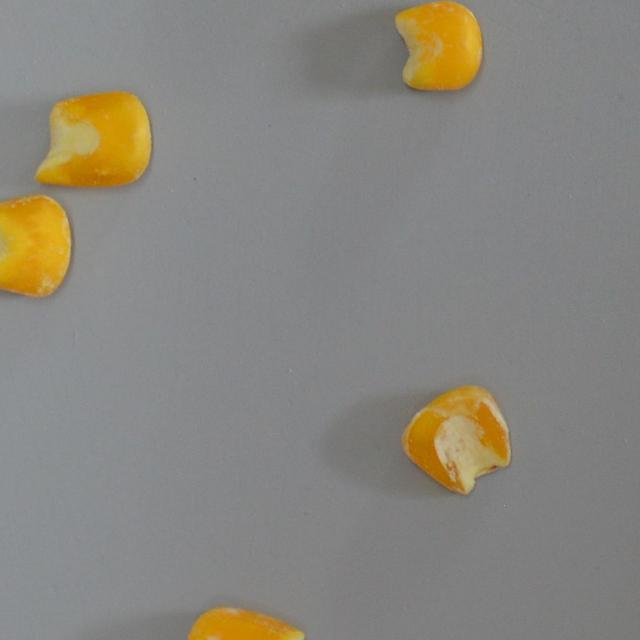no_canjicado: (32, 90, 152, 186)
pelicula: (398, 382, 514, 496), (392, 0, 482, 90), (0, 193, 73, 296), (180, 604, 304, 640)
